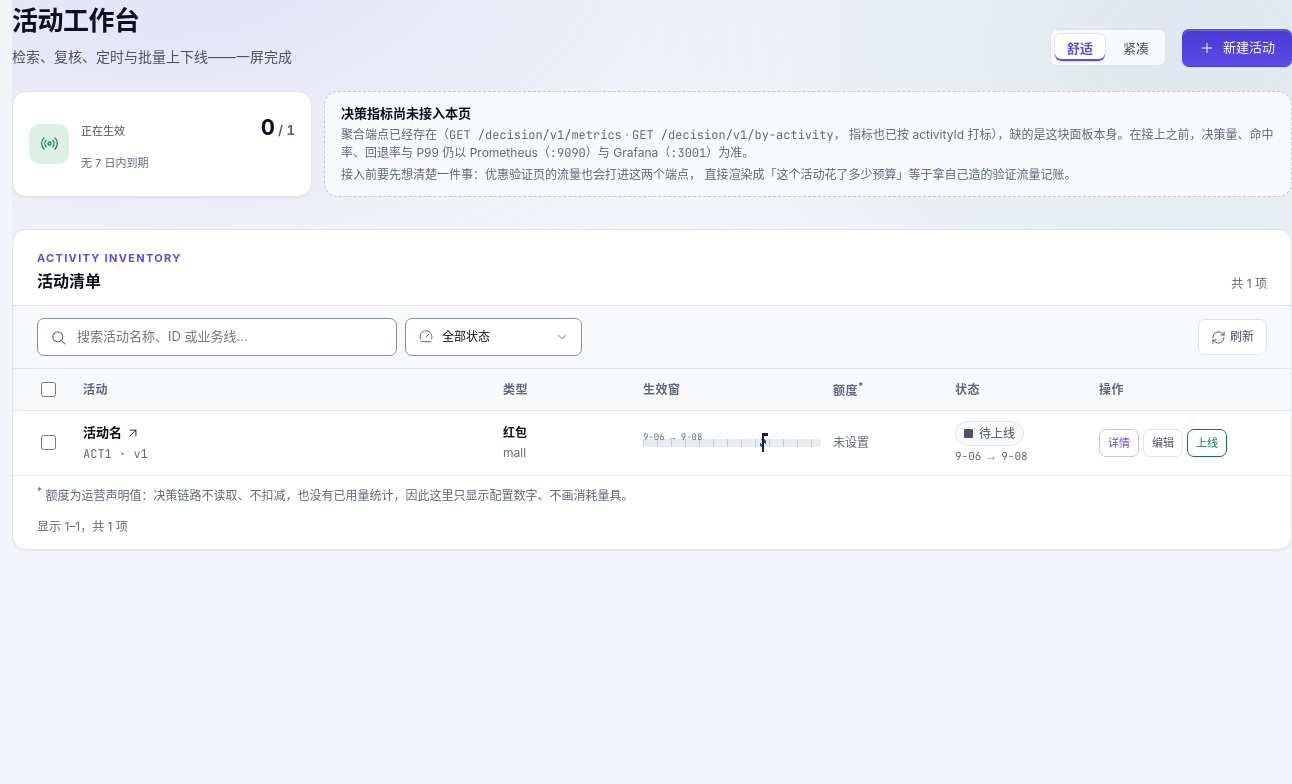
ListView 工作台 › 详情侧板从 rule 导出权益形态，不只显示笼统的红包类型
What coordinates should you click on to do the following:
click the button with class "activity-name"
I would click on:
 (112, 433)
Its box is [83,423,140,443].
(page scrolled)
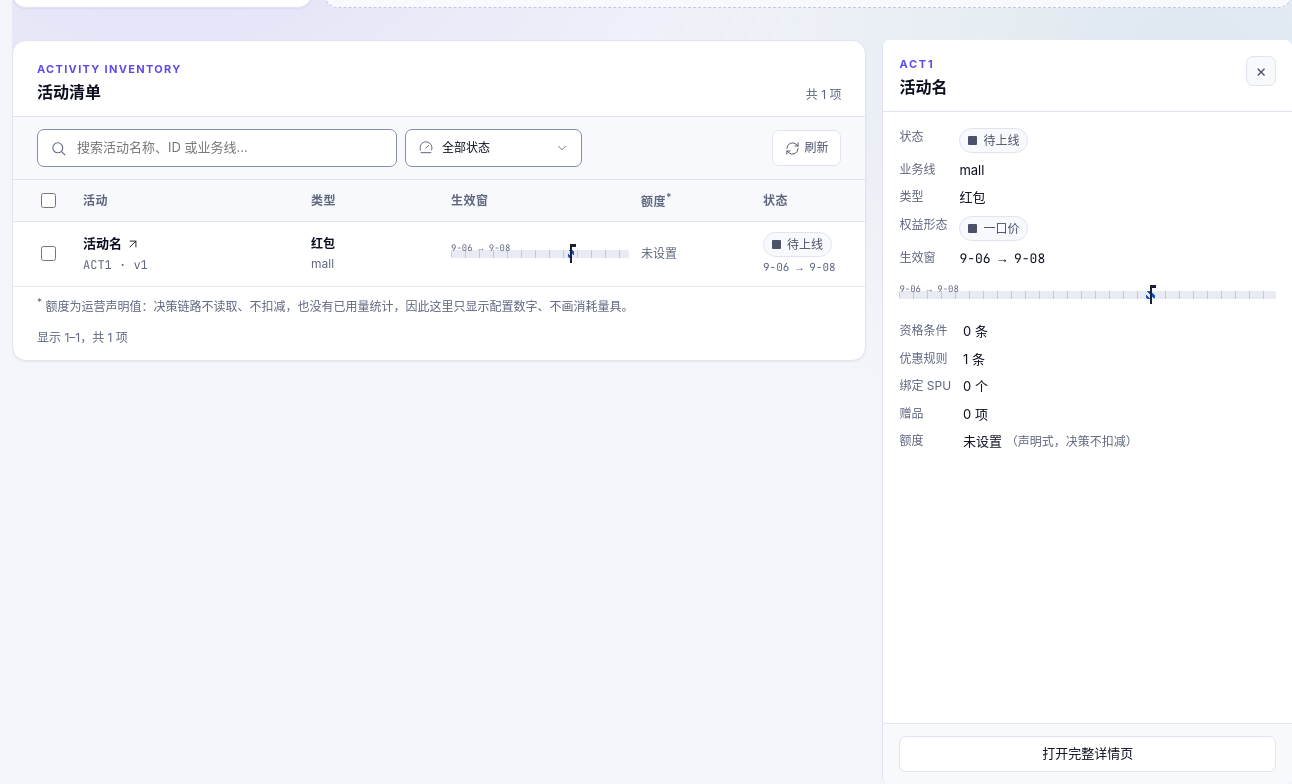
Check: the text with test id "panel-benefit-form" reads "一口价", box [983,221,1019,236]
